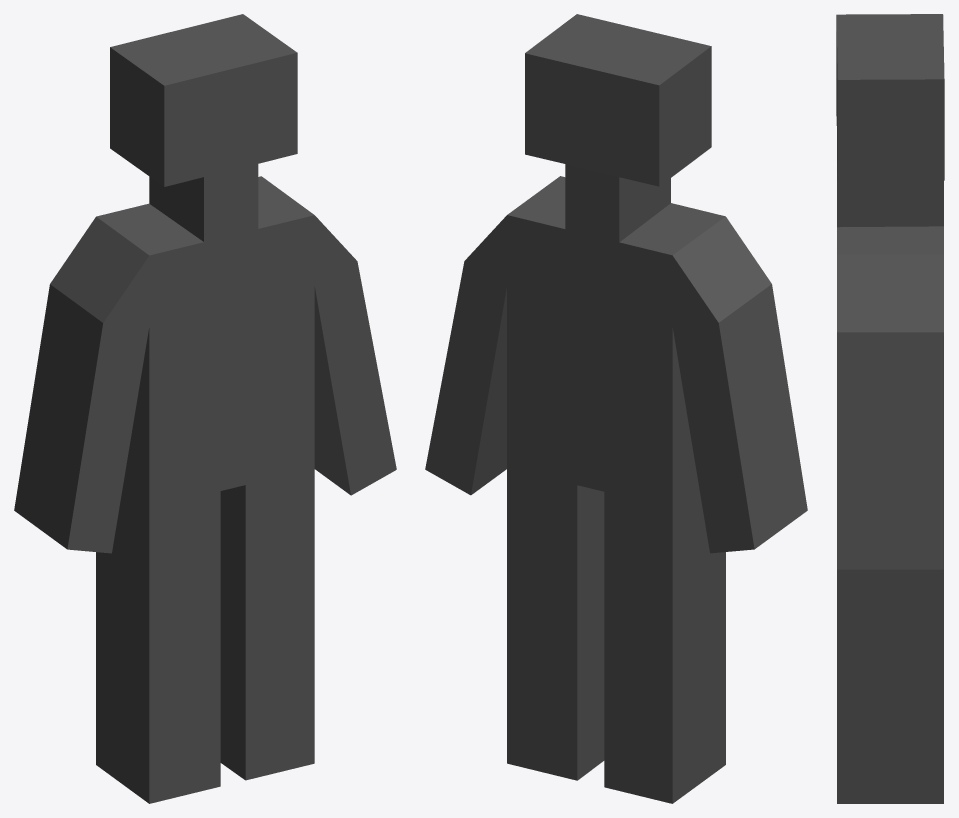
The model's file is player.fbx.
3 renders of one model, left to right at view 1: azimuth 30°, elevation 25°; view 2: azimuth 150°, elevation 25°; view 3: azimuth 270°, elevation 25°, orthographic.
Visible parts, largest first — view 1: Box001; view 2: Box001; view 3: Box001.
Boxes of the visible parts, left/top/right/bottom form: Box001: left=14, top=14, right=396, bottom=803; Box001: left=425, top=14, right=807, bottom=803; Box001: left=836, top=14, right=944, bottom=803.
Bounding box in the file's own units: 93.71 × 26.58 × 194.
Materials: 1 (1 with a texture image).
